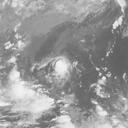cyclone: (53, 57, 71, 79)
